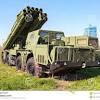MIL_SAM_TEL: (2, 4, 100, 77)
